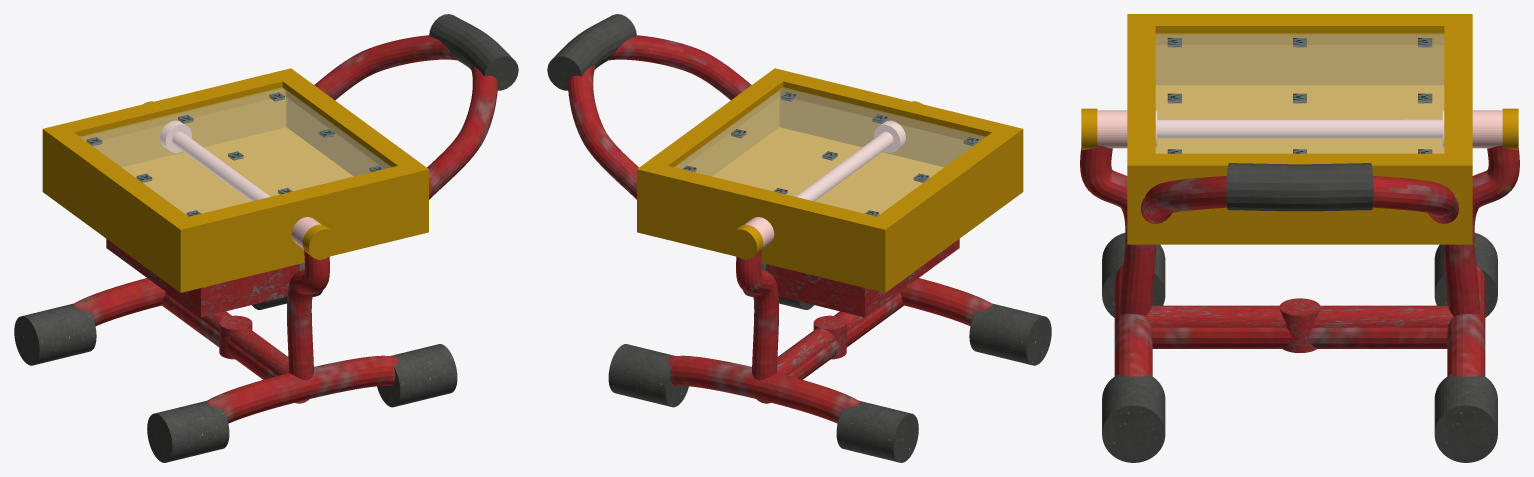
The model's file is Equipment_LED_work_light__0000.glb.
3 renders of one model, left to right at view 1: azimuth 30°, elevation 25°; view 2: azimuth 150°, elevation 25°; view 3: azimuth 270°, elevation 25°, orthographic. The views are drawn at different scales.
Parts seen in each view (by area): view 1: light_head::led_glass_panel, light_head::housing_back, light_head::housing_wall_right, light_head::housing_wall_bottom, light_head::carry_handle, light_head::housing_wall_left, stand_frame::side_rail_neg_y, light_head::battery_pack, light_head::bezel_right, light_head::bezel_left, stand_frame::foot_fl, stand_frame::foot_bl (+14 smaller); view 2: light_head::led_glass_panel, light_head::housing_back, light_head::housing_wall_left, light_head::housing_wall_bottom, light_head::carry_handle, light_head::housing_wall_right, stand_frame::side_rail_pos_y, light_head::battery_pack, light_head::bezel_left, light_head::bezel_right, stand_frame::foot_bl, stand_frame::foot_fl (+14 smaller); view 3: light_head::led_glass_panel, light_head::housing_back, light_head::housing_wall_bottom, light_head::housing_wall_top, light_head::handle_grip, light_head::bezel_bottom, stand_frame::shoulder_crossbar, stand_frame::base_cross_member, light_head::bezel_top, light_head::carry_handle, light_head::pivot_shaft, stand_frame::foot_br (+15 smaller).
Part boxes in pixels (x1,y1,x2,y2): light_head::led_glass_panel: [81, 87, 390, 216]; light_head::housing_back: [42, 127, 428, 292]; light_head::housing_wall_right: [180, 173, 428, 288]; light_head::housing_wall_bottom: [42, 136, 191, 289]; light_head::carry_handle: [314, 35, 497, 199]; light_head::housing_wall_left: [81, 88, 286, 166]; stand_frame::side_rail_neg_y: [206, 355, 398, 423]; light_head::battery_pack: [106, 239, 299, 317]; light_head::bezel_right: [189, 166, 409, 231]; light_head::bezel_left: [62, 73, 282, 137]; stand_frame::foot_fl: [14, 303, 96, 365]; stand_frame::foot_bl: [147, 400, 229, 462]; light_head::led_glass_panel: [675, 87, 984, 216]; light_head::housing_back: [637, 127, 1023, 292]; light_head::housing_wall_left: [637, 173, 889, 288]; light_head::housing_wall_bottom: [874, 133, 1023, 288]; light_head::carry_handle: [568, 35, 751, 199]; light_head::housing_wall_right: [779, 88, 984, 166]; stand_frame::side_rail_pos_y: [667, 355, 859, 423]; light_head::battery_pack: [766, 239, 959, 317]; light_head::bezel_left: [656, 166, 876, 231]; light_head::bezel_right: [783, 73, 1003, 137]; stand_frame::foot_bl: [969, 303, 1051, 365]; stand_frame::foot_fl: [836, 400, 918, 462]; light_head::led_glass_panel: [1156, 33, 1443, 153]; light_head::housing_back: [1127, 85, 1472, 244]; light_head::housing_wall_bottom: [1155, 34, 1444, 85]; light_head::housing_wall_top: [1127, 170, 1472, 240]; light_head::handle_grip: [1226, 163, 1373, 211]; light_head::bezel_bottom: [1127, 14, 1472, 34]; stand_frame::shoulder_crossbar: [1146, 305, 1453, 327]; stand_frame::base_cross_member: [1152, 327, 1447, 348]; light_head::bezel_top: [1127, 153, 1472, 174]; light_head::carry_handle: [1141, 176, 1458, 223]; light_head::pivot_shaft: [1157, 119, 1442, 138]; stand_frame::foot_br: [1102, 374, 1165, 462].
Size of the model in its own units: 0.3654 by 0.2489 by 0.2777.
Materials: 6 (4 with a texture image).
